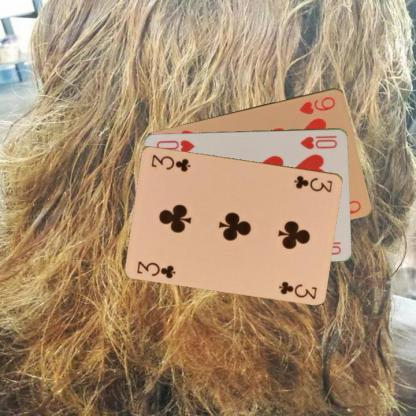10h: (298, 132, 338, 150)
3c: (134, 258, 178, 280), (291, 172, 334, 194)
9h: (296, 94, 337, 116)
